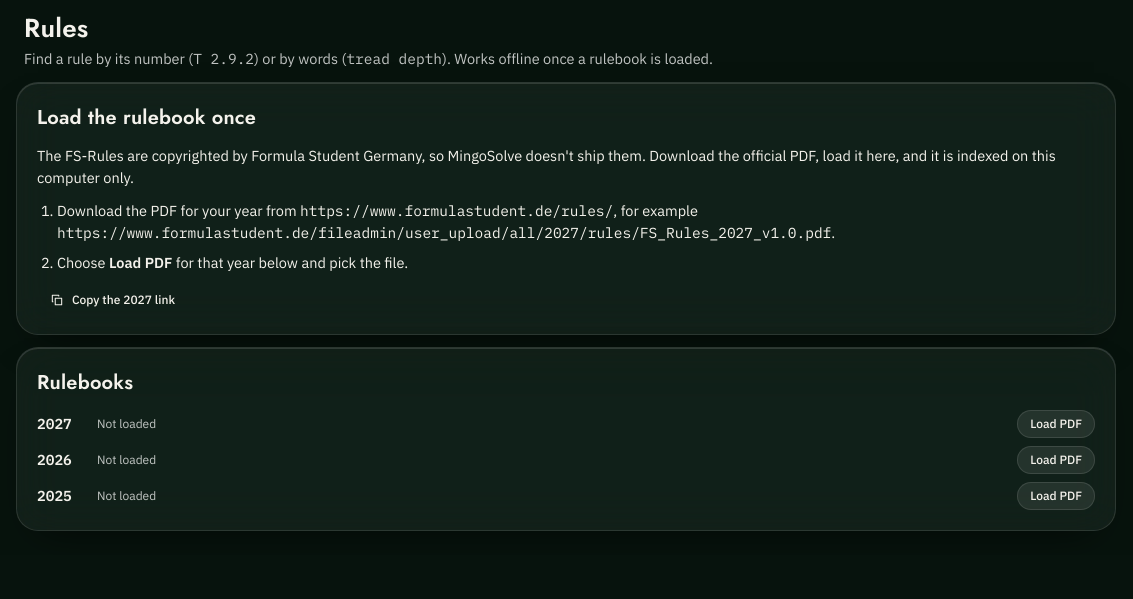
Rules view › a PDF the engine rejects is reported and nothing becomes loaded
Click the button with aria-label "Load the 2027 PDF".
click(1056, 424)  # box [1017, 410, 1095, 438]
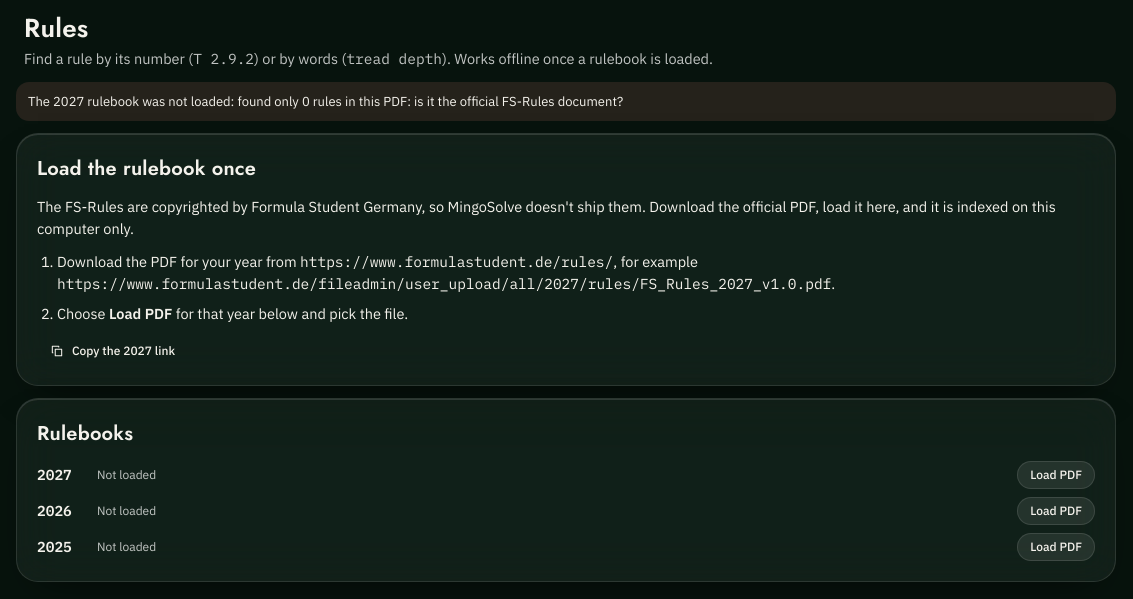
Now the message shows "found only 0 rules", box [28, 93, 623, 110]
